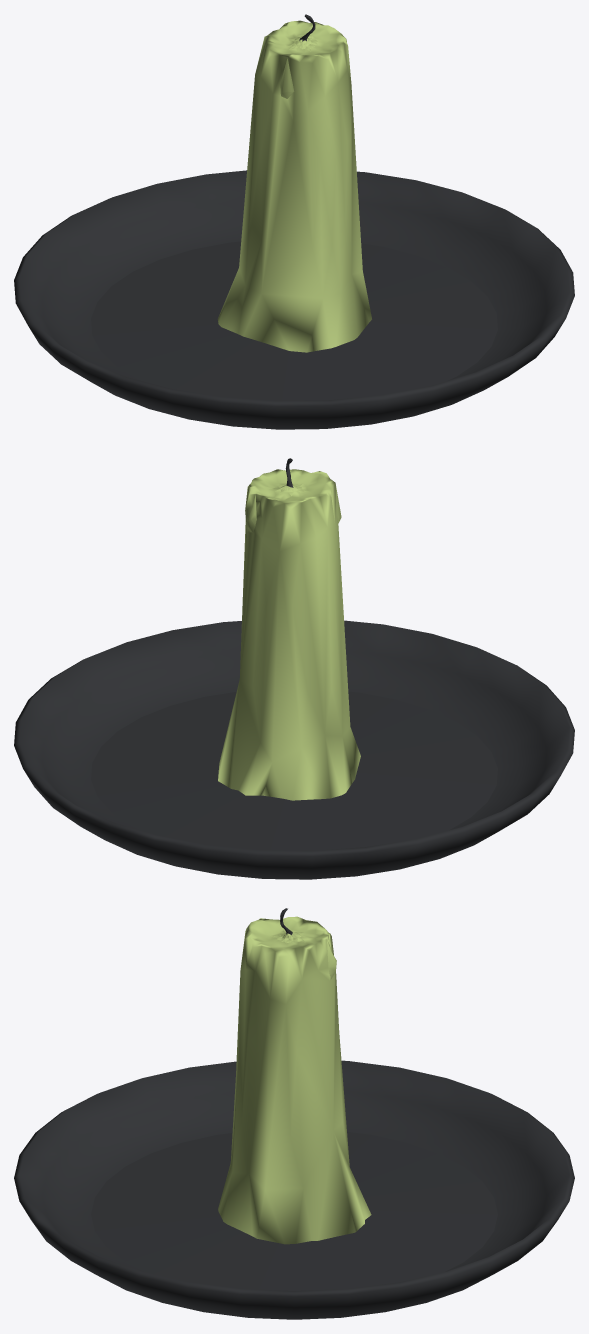
The picture shows the model from 3 angles, top to bottom: view 1: azimuth 30°, elevation 25°; view 2: azimuth 150°, elevation 25°; view 3: azimuth 270°, elevation 25°; orthographic projection.
Visible parts, largest first — view 1: candlestick, candle; view 2: candlestick, candle; view 3: candlestick, candle.
Part boxes in pixels (box(x1,y1,x2,y2)): candlestick: box(14, 170, 574, 429); candle: box(217, 20, 371, 352); candlestick: box(14, 620, 574, 879); candle: box(218, 469, 360, 800); candlestick: box(14, 1060, 574, 1319); candle: box(218, 916, 371, 1244).
Size of the model in its own units: 91.52 by 61.58 by 91.52.
